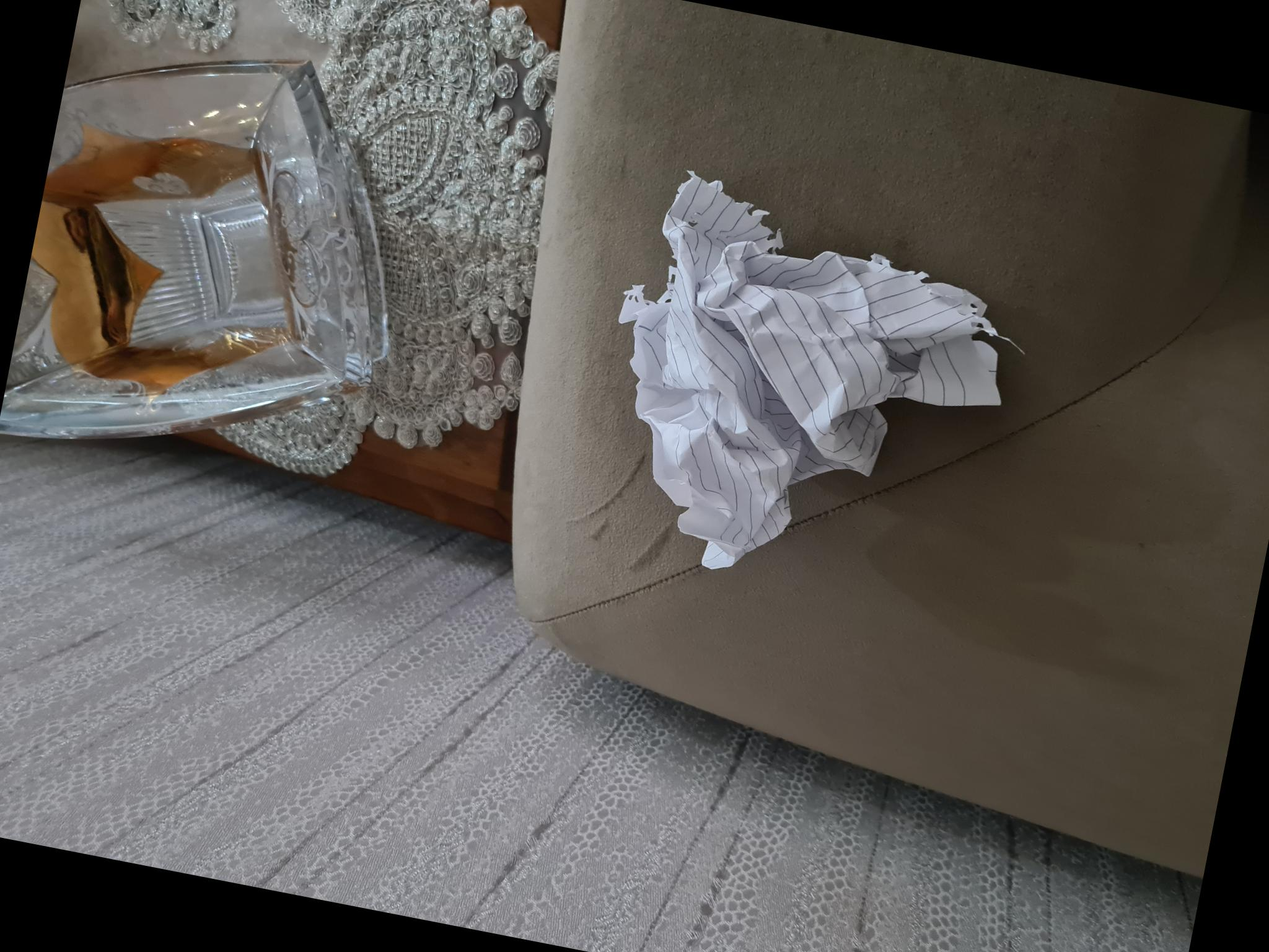Kertas: (356, 587, 753, 952)
